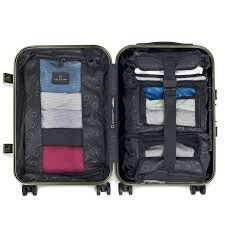suitcase: (4, 41, 221, 200)
